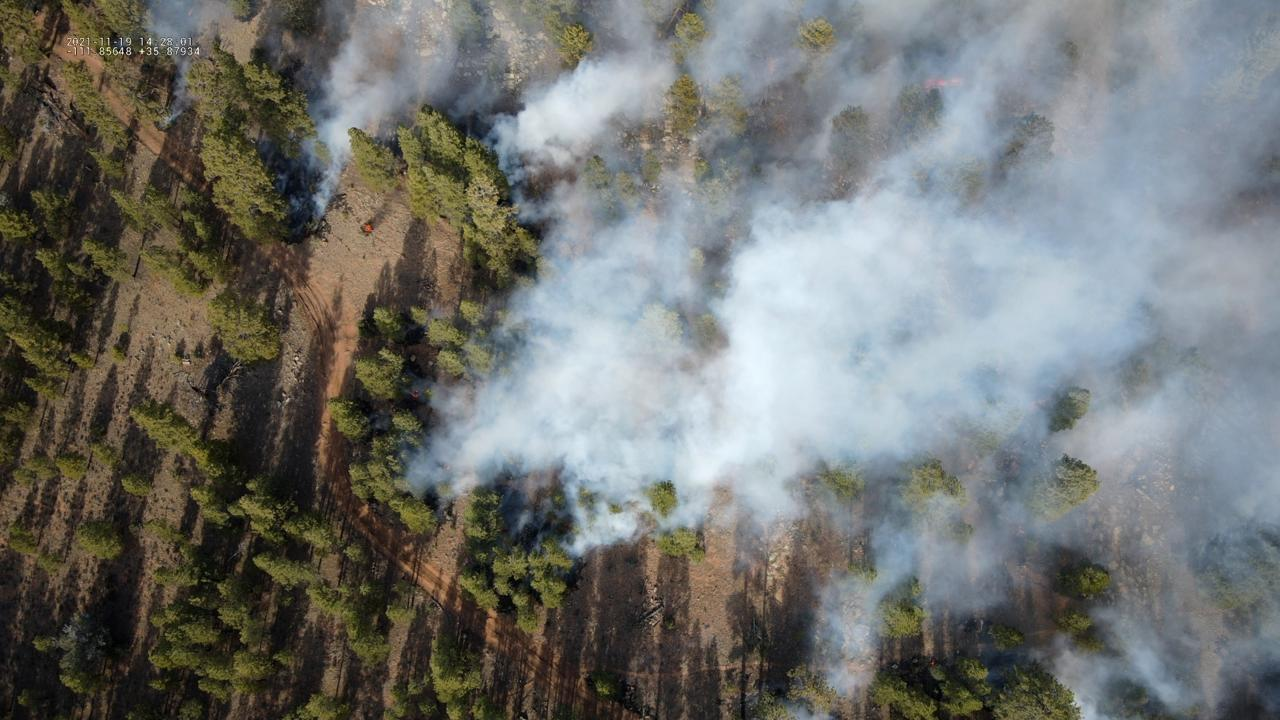fire: (923, 75, 971, 91), (410, 388, 422, 399), (363, 222, 373, 233), (186, 9, 193, 18)
smoke: (272, 0, 1280, 720), (140, 0, 232, 126)
